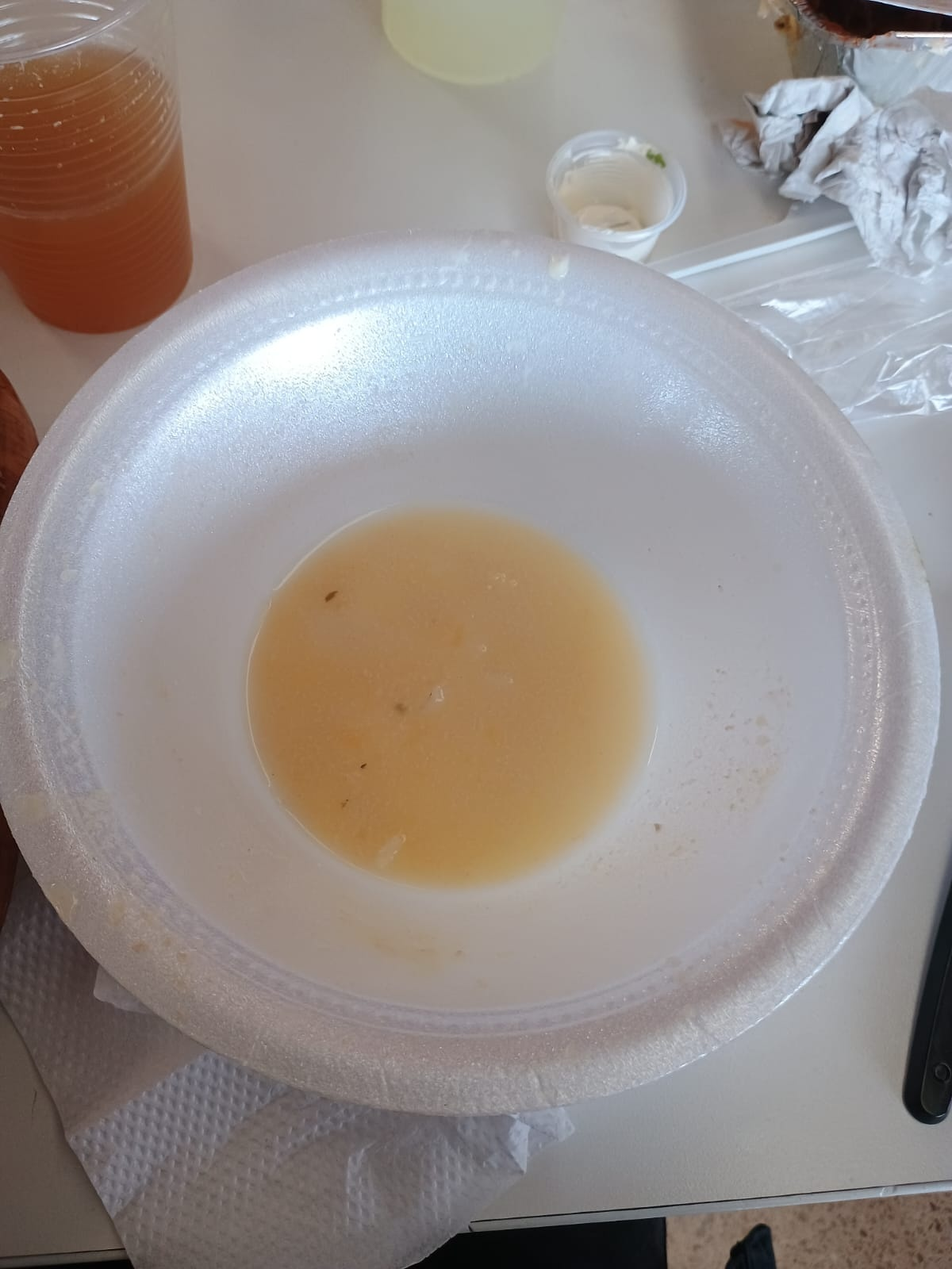Ordinario: (2, 230, 940, 1115), (540, 126, 690, 258)
